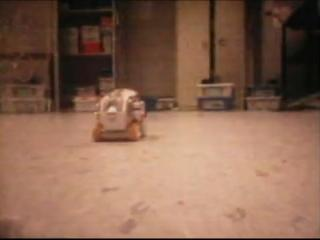cozmo: (90, 87, 147, 142)
